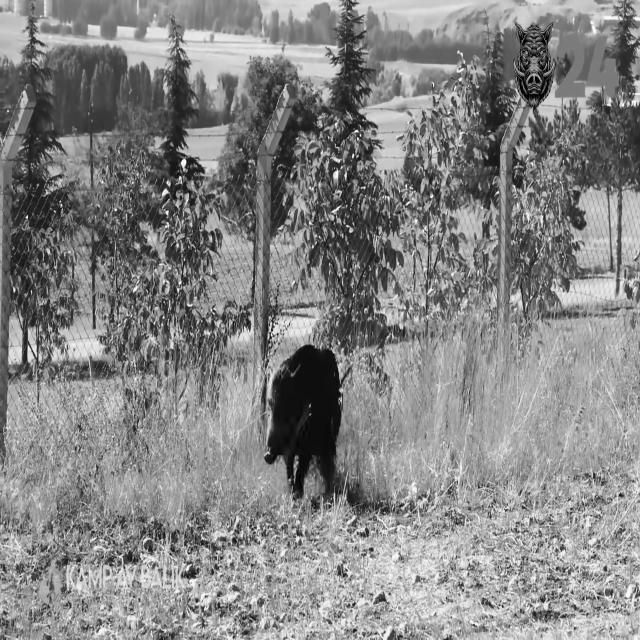boar: (264, 344, 341, 495)
